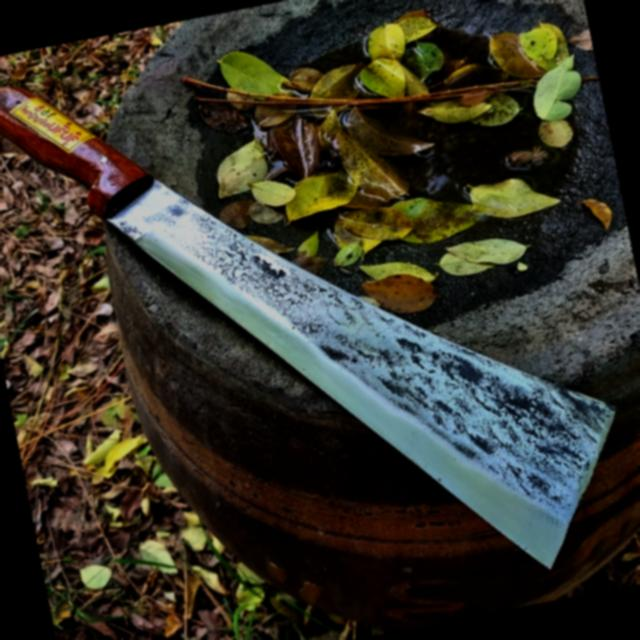eto: (0, 81, 618, 577)
